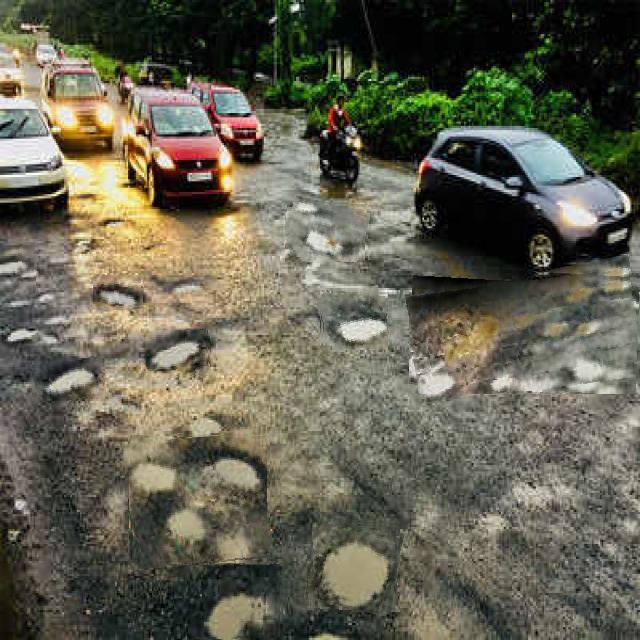Pothole: (409, 264, 640, 394), (126, 432, 270, 565), (308, 519, 400, 612), (174, 564, 284, 640), (286, 200, 368, 262), (319, 288, 388, 350), (32, 358, 105, 401), (146, 330, 210, 378), (0, 242, 36, 297), (93, 275, 143, 310)
